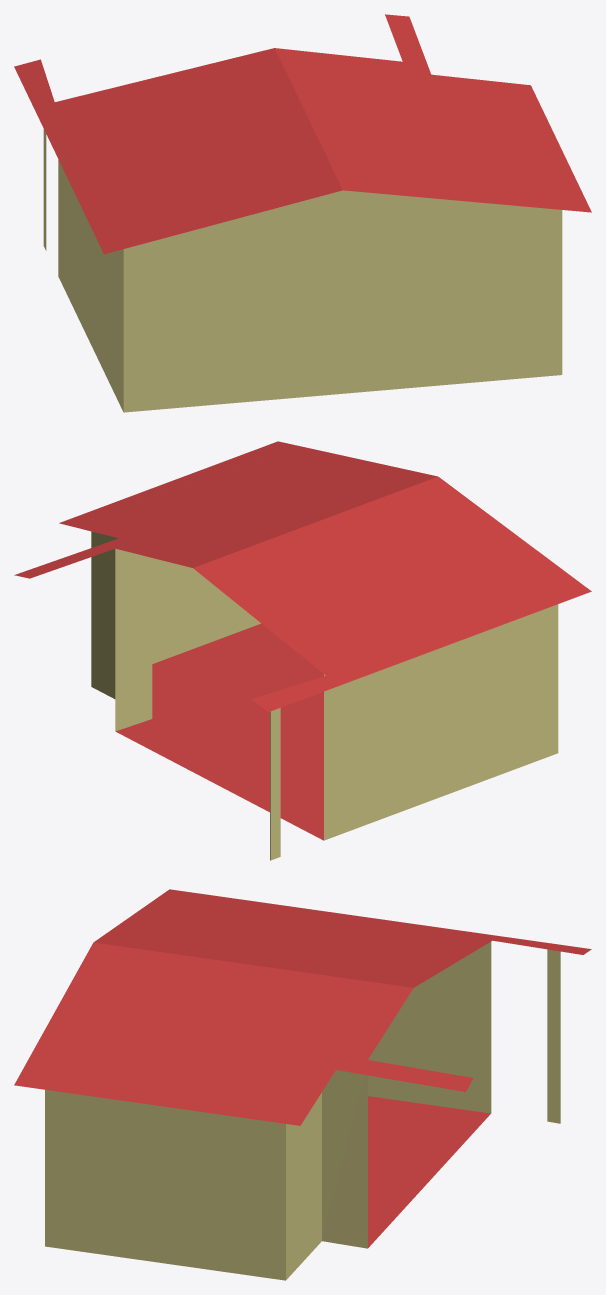
3 renders of one model, top to bottom at view 1: azimuth 30°, elevation 25°; view 2: azimuth 150°, elevation 25°; view 3: azimuth 270°, elevation 25°, orthographic. The views are drawn at different scales.
Bounding box in the file's own units: 17.07 × 17.62 × 7.08.
